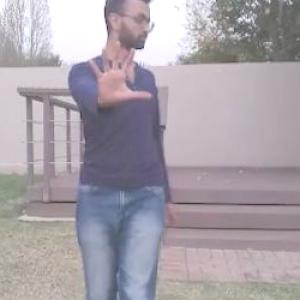follow_hand: (84, 34, 154, 106)
